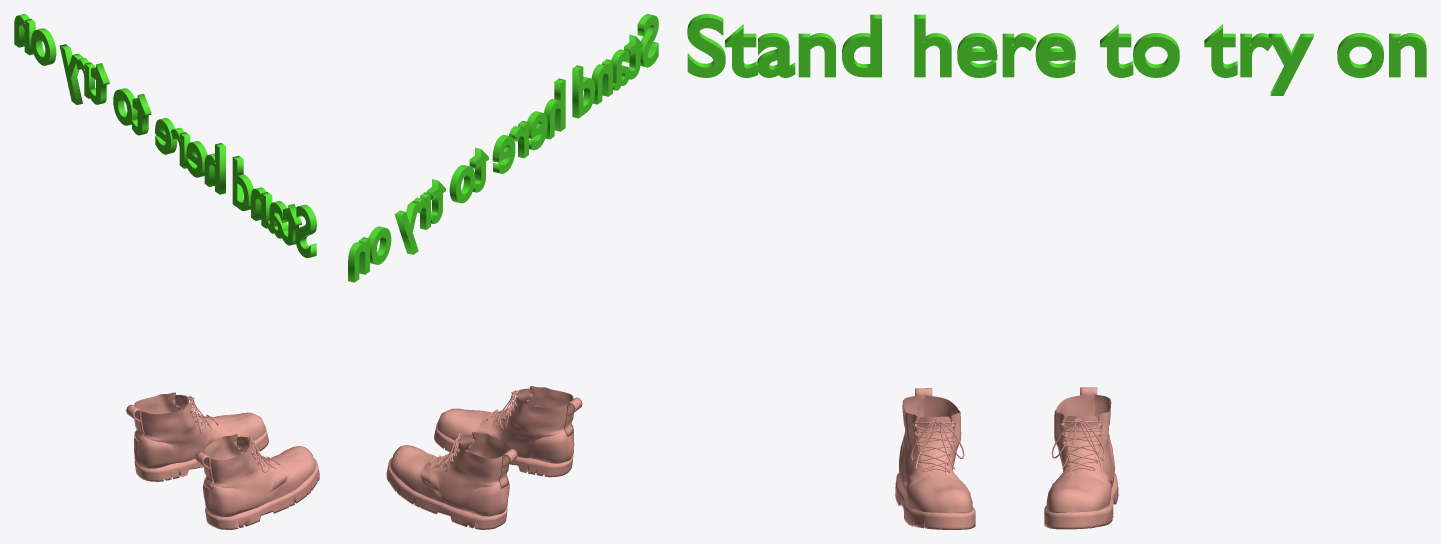
File: TryOnShoes.gltf
The picture shows the model from 3 angles, left to right: view 1: azimuth 30°, elevation 25°; view 2: azimuth 150°, elevation 25°; view 3: azimuth 270°, elevation 25°; orthographic projection. The views are drawn at different scales.
Visible parts, largest first — view 1: Shoe.002, Text; view 2: Shoe.002, Text; view 3: Text, Shoe.002.
Boxes of the visible parts, <box> form: Shoe.002: <box>126,392,319,529</box>; Text: <box>14,14,316,257</box>; Shoe.002: <box>386,386,582,529</box>; Text: <box>348,14,658,282</box>; Text: <box>687,14,1426,95</box>; Shoe.002: <box>895,387,1118,529</box>.
Bounding box in the file's own units: 2.11 × 5.83 × 8.24.
